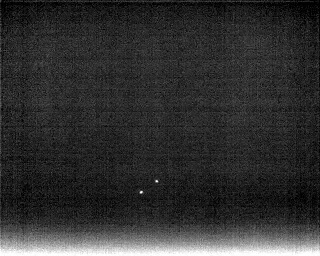BIRD: (137, 188, 145, 197)
